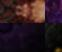altar: (45, 0, 62, 23)
spider: (0, 0, 45, 23)
